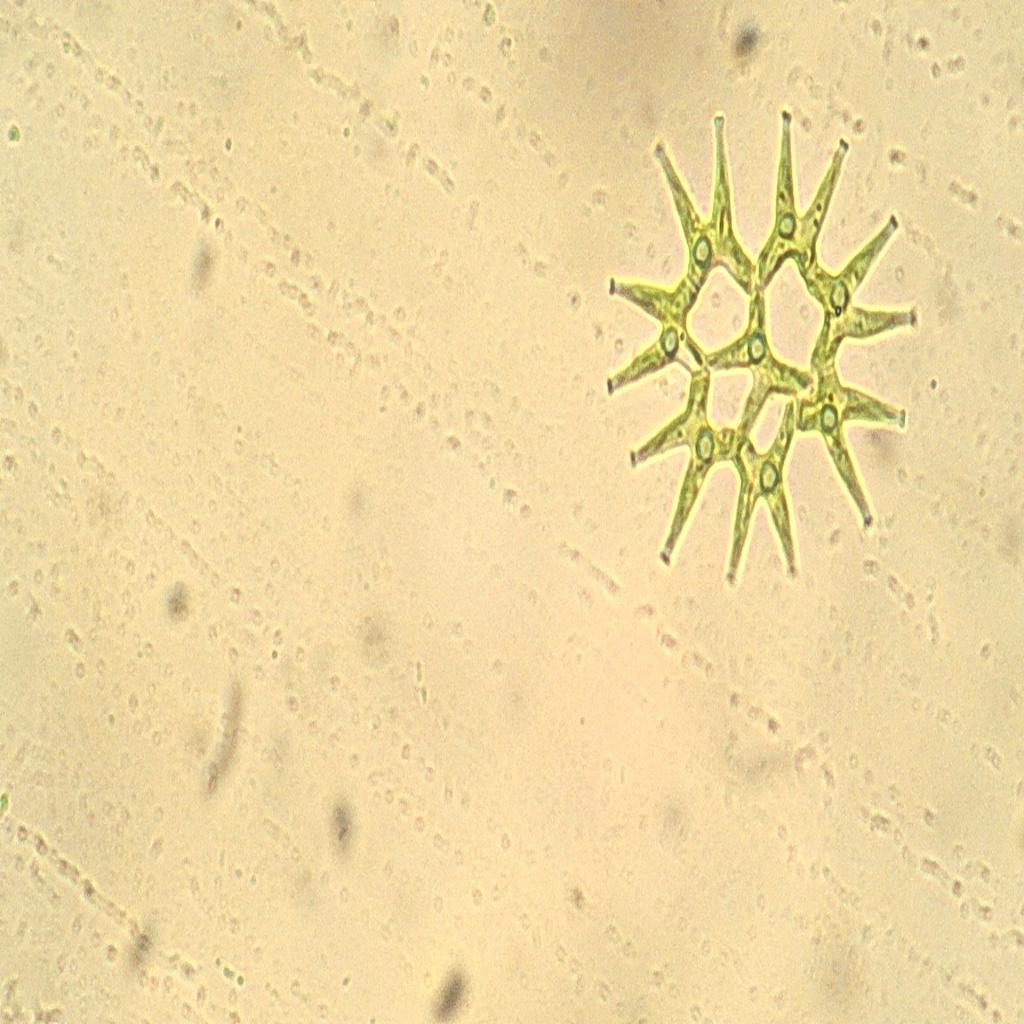Pediastrum_CTH: (586, 77, 936, 621)
